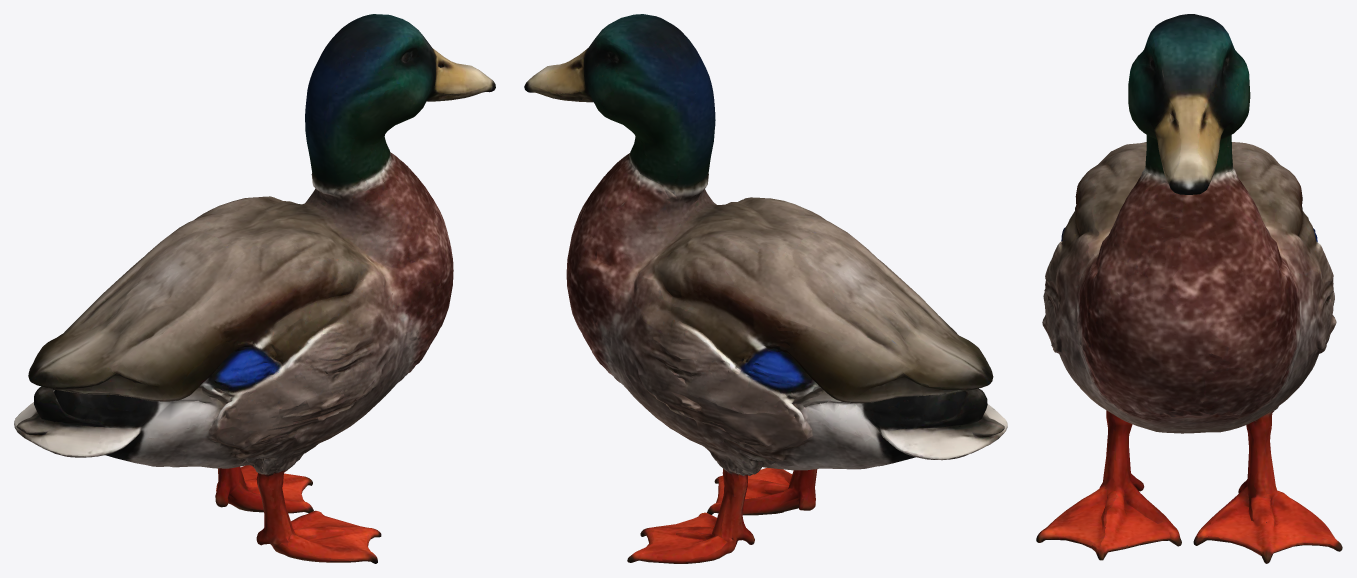
The model's file is mallard-duck-v21-lod.glb.
3 views of the same model, side by side, from view 1: azimuth 30°, elevation 25°; view 2: azimuth 150°, elevation 25°; view 3: azimuth 270°, elevation 25° (orthographic). The views are drawn at different scales.
Visible parts, largest first — view 1: world; view 2: world; view 3: world.
Boxes of the visible parts, x1,y1,x2,y2 form: world: (14,14,495,563); world: (524,14,1007,563); world: (1036,14,1342,563).
Size of the model in its own units: 0.5699 by 0.5541 by 0.2749.
1 material, 1 textured.
